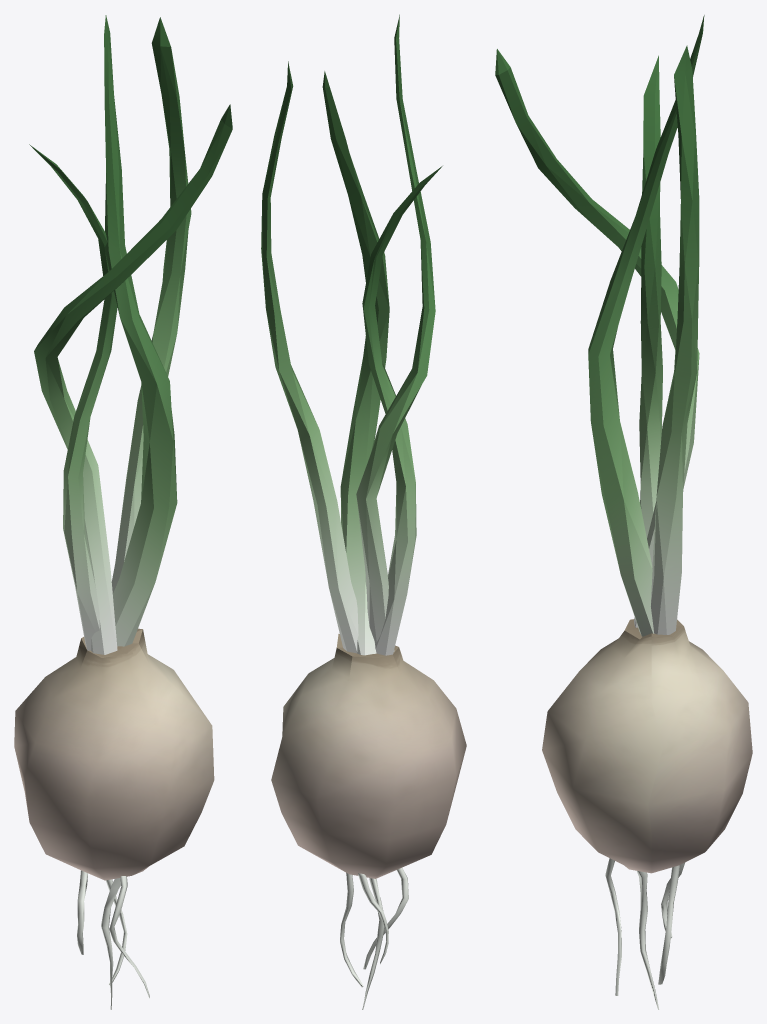
Rendered from GarlicBulb01.fbx.
3 views of the same model, side by side, from view 1: azimuth 30°, elevation 25°; view 2: azimuth 150°, elevation 25°; view 3: azimuth 270°, elevation 25° (orthographic). The views are drawn at different scales.
Parts seen in each view (by area): view 1: garlicBulb01; view 2: garlicBulb01; view 3: garlicBulb01.
Part boxes in pixels (box(x1,y1,x2,y2)): garlicBulb01: box(14, 15, 232, 1009); garlicBulb01: box(261, 14, 466, 1009); garlicBulb01: box(495, 15, 752, 1009).
Size of the model in its own units: 2.13 by 10.86 by 2.52.
